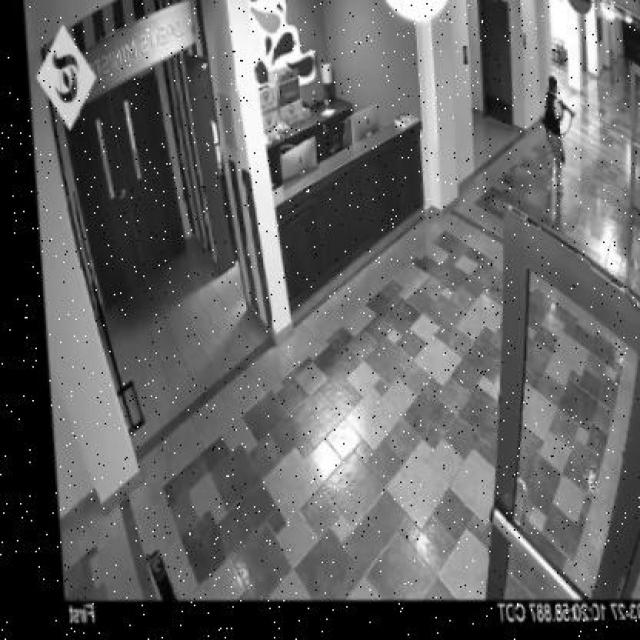weapon: (560, 101, 575, 118)
